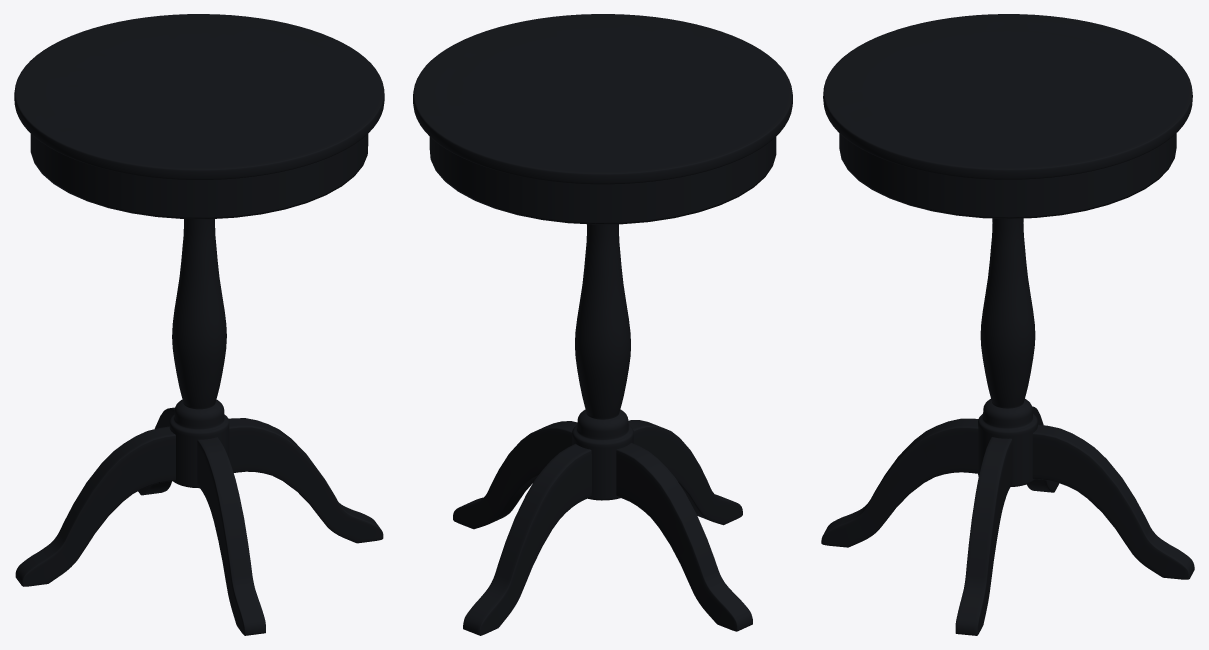
The model's file is abo-B07DBB7FVL.glb.
3 views of the same model, side by side, from view 1: azimuth 30°, elevation 25°; view 2: azimuth 150°, elevation 25°; view 3: azimuth 270°, elevation 25° (orthographic). The views are drawn at different scales.
Bounding box in the file's own units: 0.481 × 0.665 × 0.481.
Materials: 1 (1 with a texture image).
